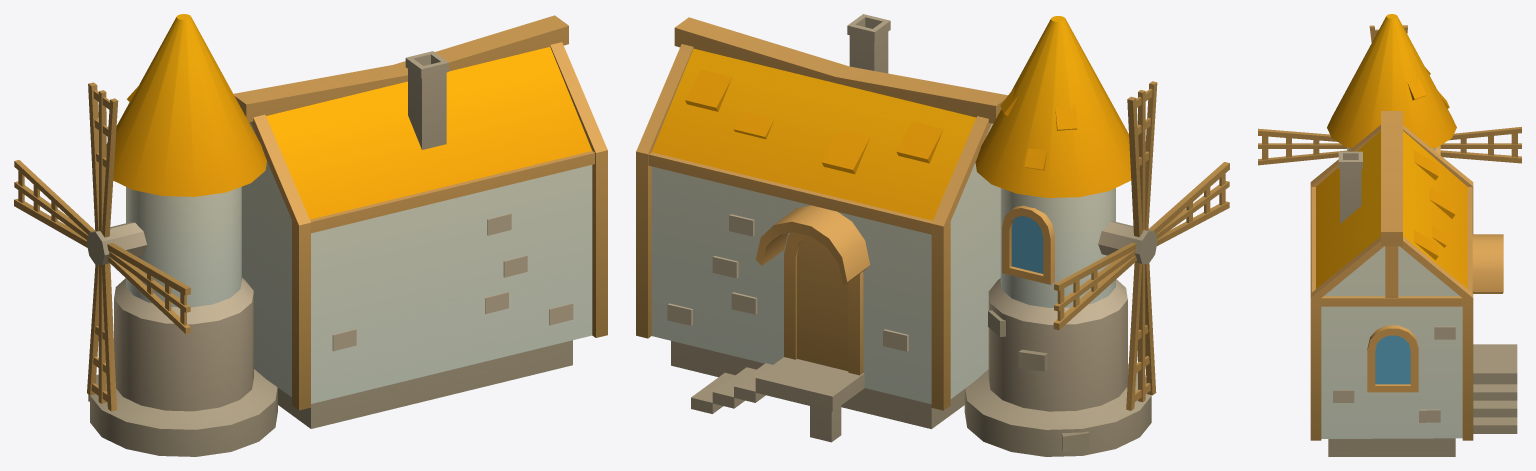
File: House+3.fbx
The picture shows the model from 3 angles, left to right: view 1: azimuth 30°, elevation 25°; view 2: azimuth 150°, elevation 25°; view 3: azimuth 270°, elevation 25°; orthographic projection. The views are drawn at different scales.
Visible parts, largest first — view 1: House 3; view 2: House 3; view 3: House 3.
Part boxes in pixels (x1=…): House 3: x1=14, y1=14, x2=607, y2=456; House 3: x1=636, y1=14, x2=1229, y2=456; House 3: x1=1258, y1=14, x2=1521, y2=456.
Size of the model in its own units: 383 by 315 by 243.
